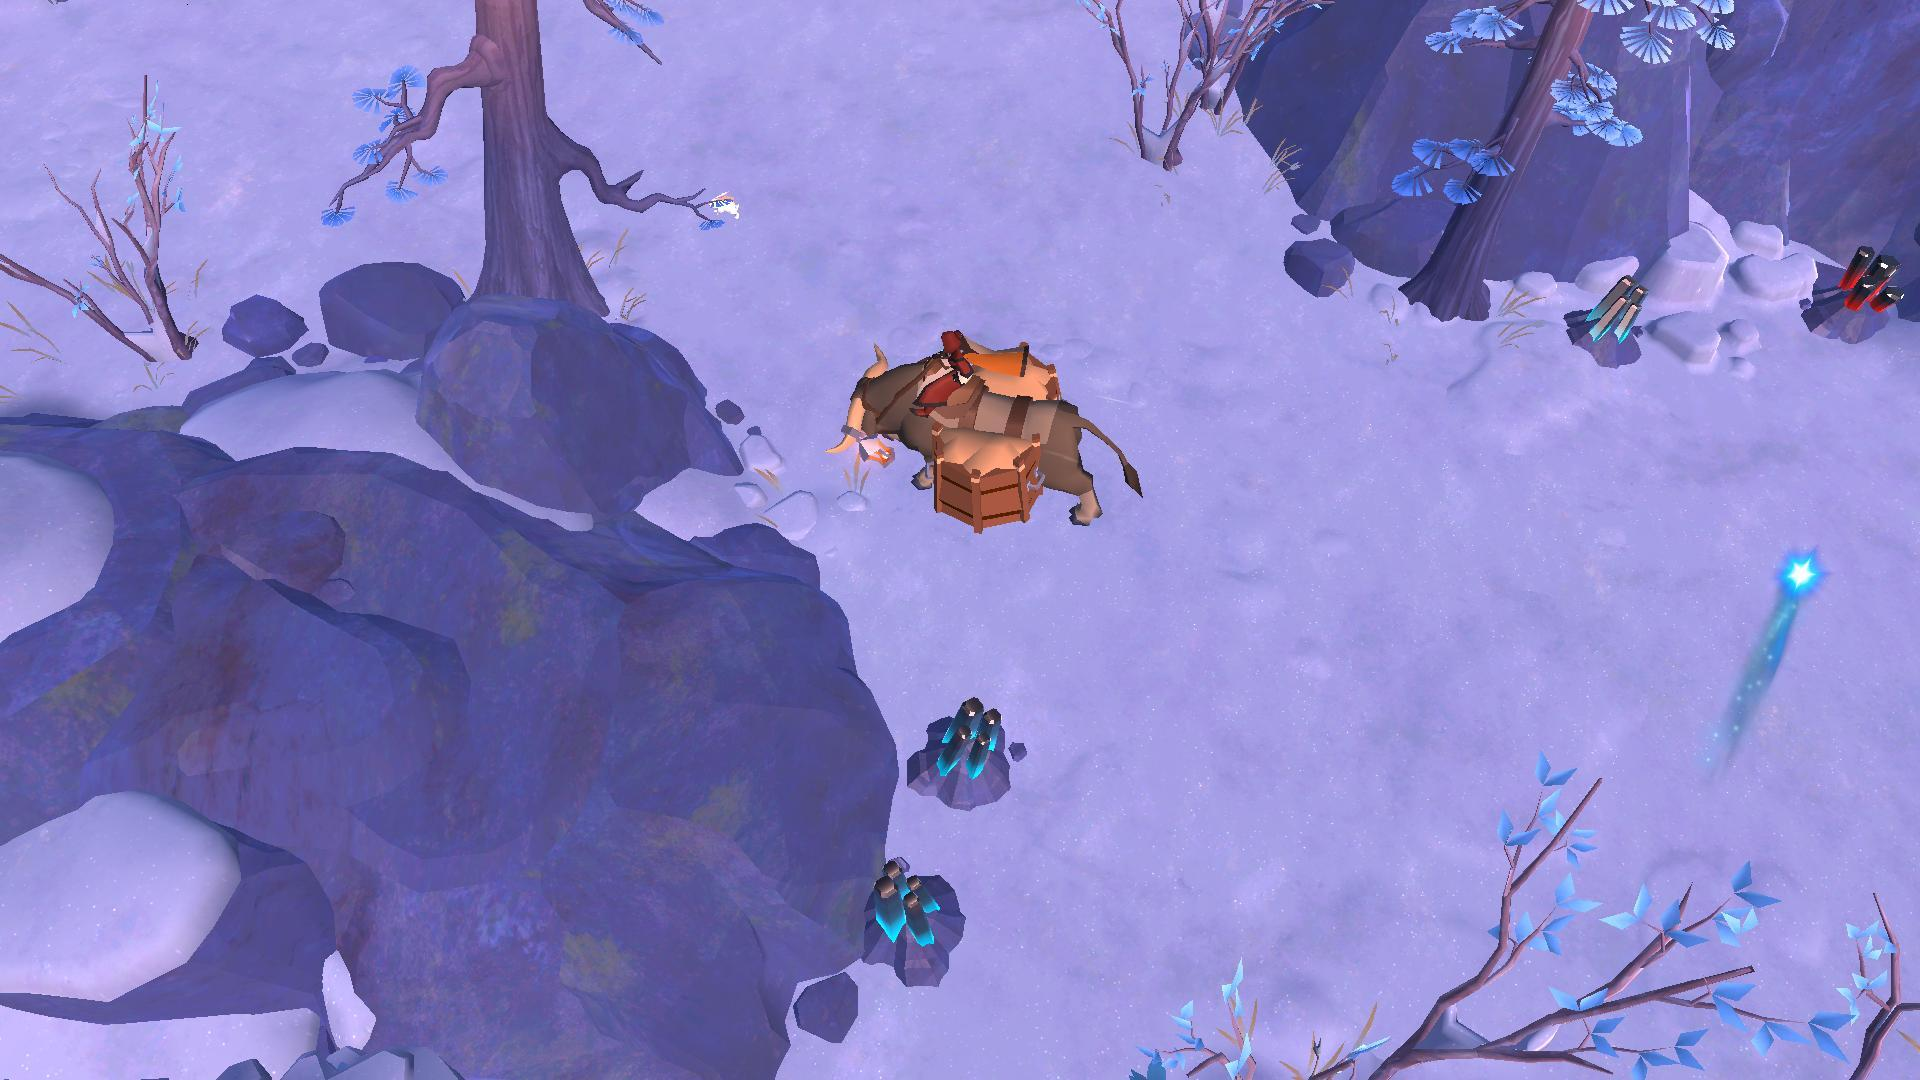ore_t4: (860, 852, 940, 961), (918, 694, 1013, 779), (1567, 277, 1652, 361)
ore_t5: (1826, 247, 1909, 322)
